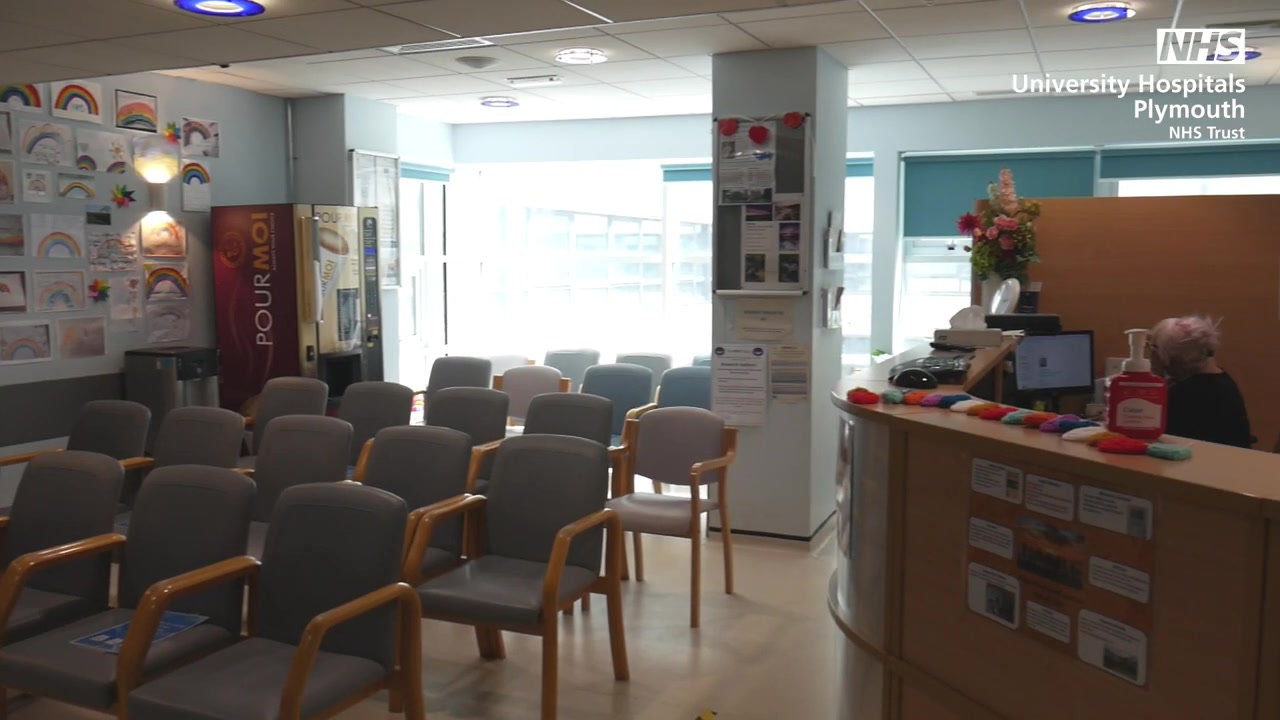chair: (127, 482, 424, 720), (2, 462, 260, 720), (404, 434, 631, 720), (609, 405, 741, 629), (351, 426, 472, 582), (249, 410, 353, 522), (152, 405, 248, 477), (65, 399, 151, 479), (582, 361, 656, 436), (520, 391, 613, 446), (248, 371, 341, 425), (423, 386, 511, 443), (493, 360, 573, 418), (335, 383, 412, 429), (433, 345, 496, 396), (428, 355, 491, 394), (657, 367, 714, 408), (542, 352, 600, 379), (616, 356, 669, 383), (691, 355, 712, 369)
computer: (1015, 330, 1096, 393)
counter: (829, 302, 1280, 720)
countertop: (828, 326, 1280, 523)
dispenser: (1107, 330, 1167, 439)
mouse: (892, 365, 941, 390)
staff: (1146, 312, 1261, 447)
